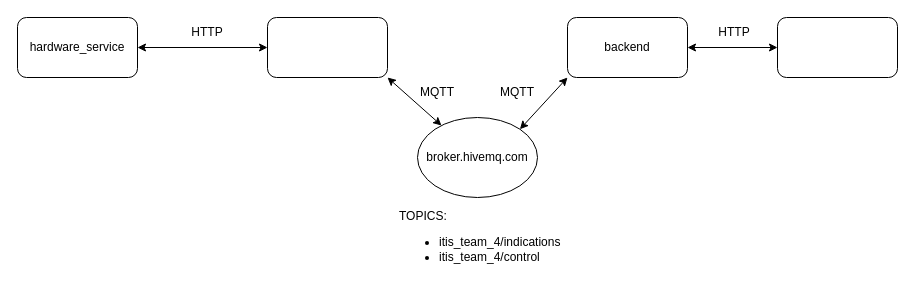
Some shapes in this 915 by 293 pixel diagram are drawn without their labels. Each missing label, with the centre of its shape:
backend_service: [327,47]
frontend: [837,47]
